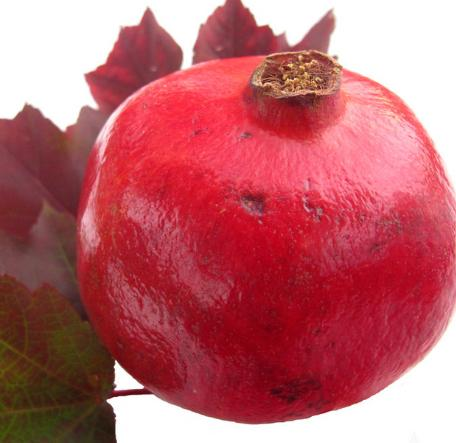pomegranate_B: (76, 48, 456, 424)
